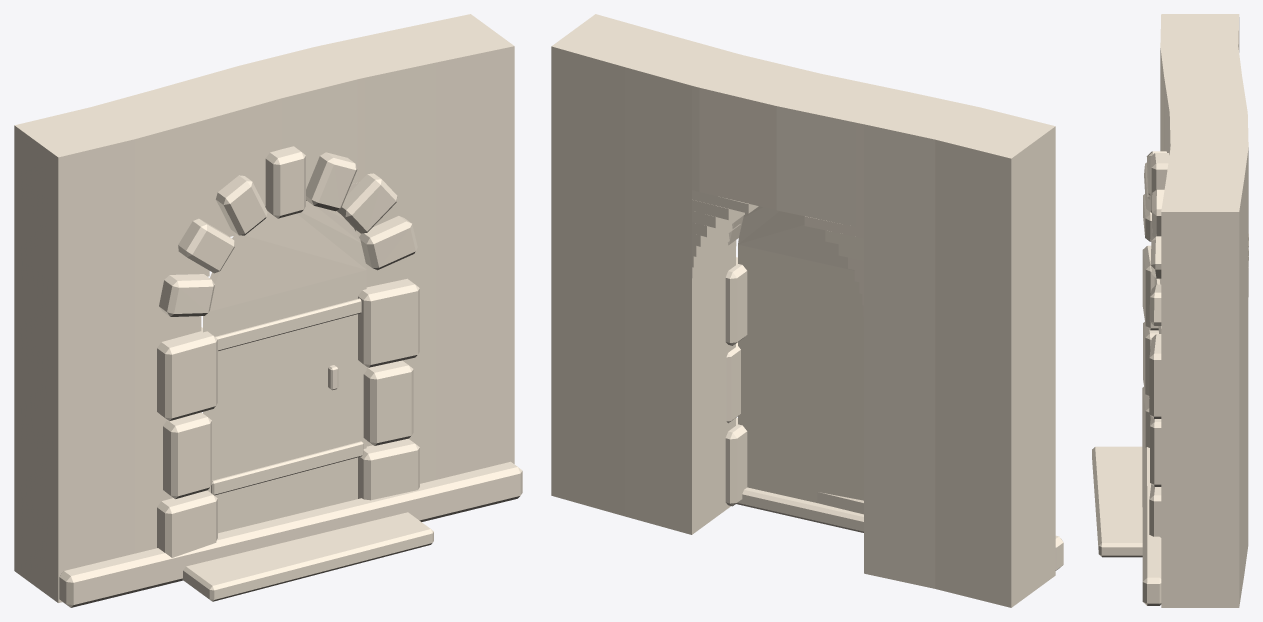
File: SM_VK_Def_StoneUp_Door.fbx
3 views of the same model, side by side, from view 1: azimuth 30°, elevation 25°; view 2: azimuth 150°, elevation 25°; view 3: azimuth 270°, elevation 25° (orthographic). The views are drawn at different scales.
Visible parts, largest first — view 1: SM_VK_Def_StoneUp_Door.001; view 2: SM_VK_Def_StoneUp_Door.001; view 3: SM_VK_Def_StoneUp_Door.001.
Boxes of the visible parts, bbox=[...] form: SM_VK_Def_StoneUp_Door.001: bbox=[14, 14, 522, 607]; SM_VK_Def_StoneUp_Door.001: bbox=[551, 14, 1063, 607]; SM_VK_Def_StoneUp_Door.001: bbox=[1092, 14, 1248, 607].
Size of the model in its own units: 3 by 2.8 by 1.01.
